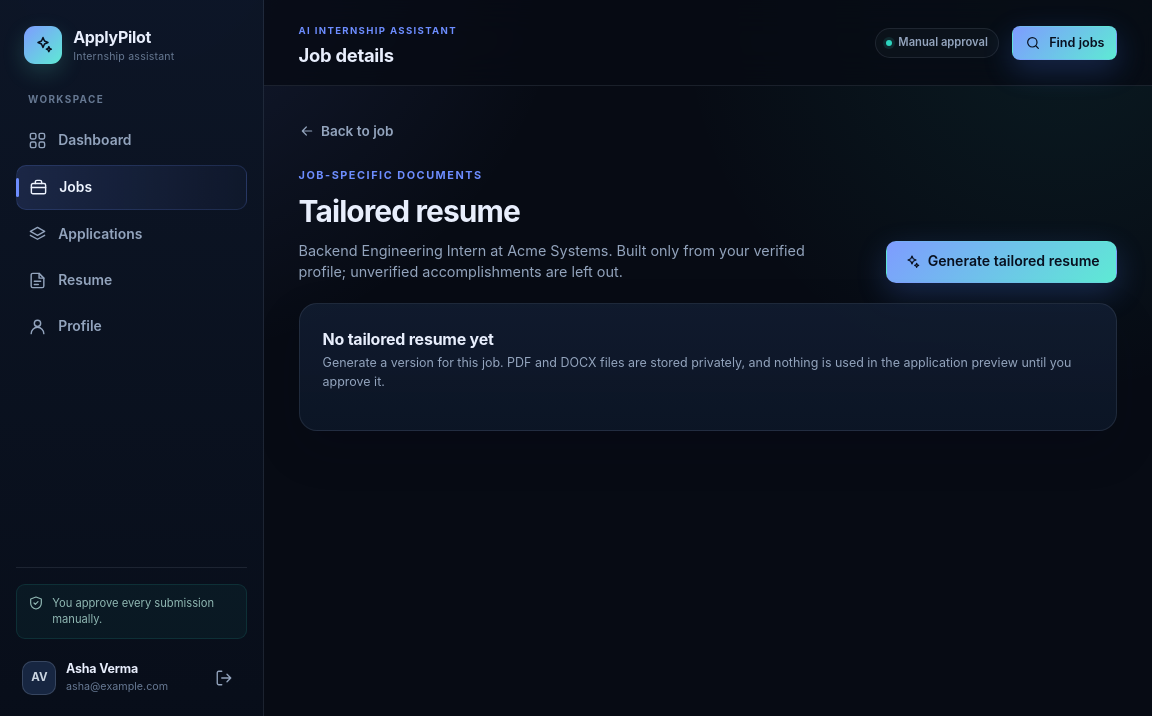
Scenario: tailored resumes › generates, shows differences, edits, and approves a job-specific resume
Expected: the heading "Tailored resume" is shown, [298, 193, 520, 229]
Expected: the heading "No tailored resume yet" is shown, [323, 329, 494, 349]
Click the button "Generate tailored resume".
click(1002, 262)  # box [886, 241, 1117, 283]
(page scrolled)
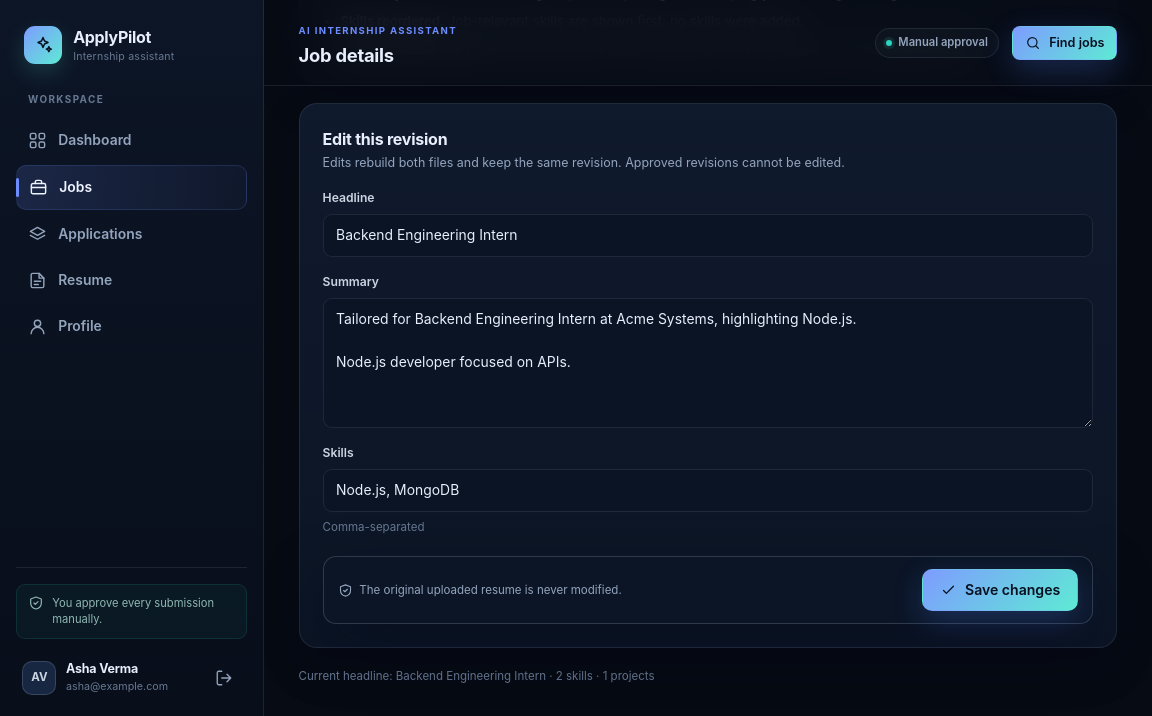
Expected: the list item "not marked verified" is shown, [752, 41, 967, 57]
Replace the text in the text box labelled "Summary" with "Edited tailored summary." at [708, 363], box [323, 298, 1093, 428]
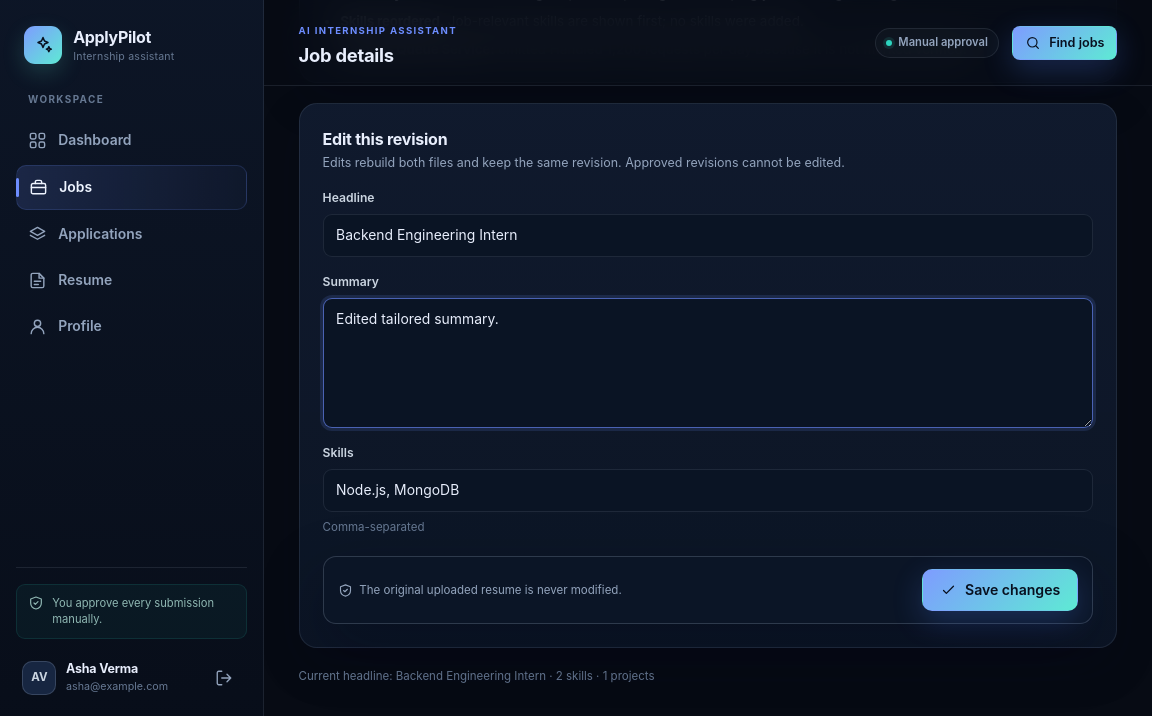
Click the button "Save changes".
click(1000, 590)  # box [922, 569, 1078, 611]
(page scrolled)
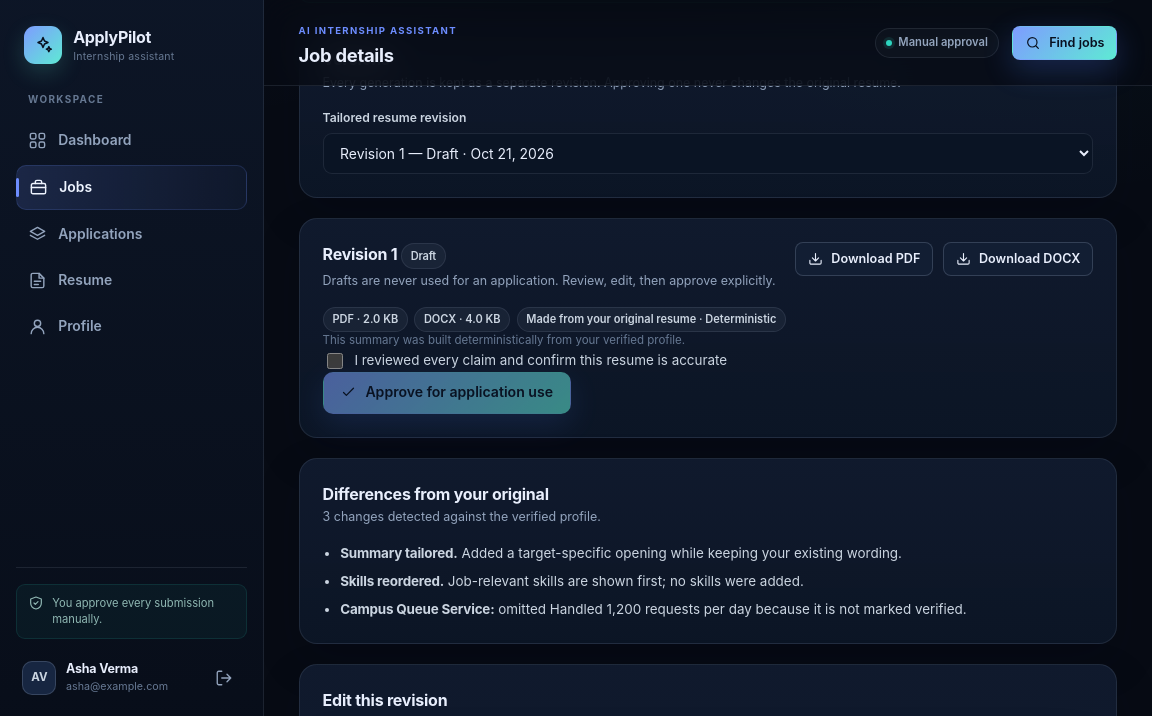
Expected: the button "Approve for application use" is disabled, [323, 372, 571, 414]
Click the checkbox labelled "I reviewed every claim and confirm this resume is accurate".
click(335, 360)  # box [327, 352, 343, 368]
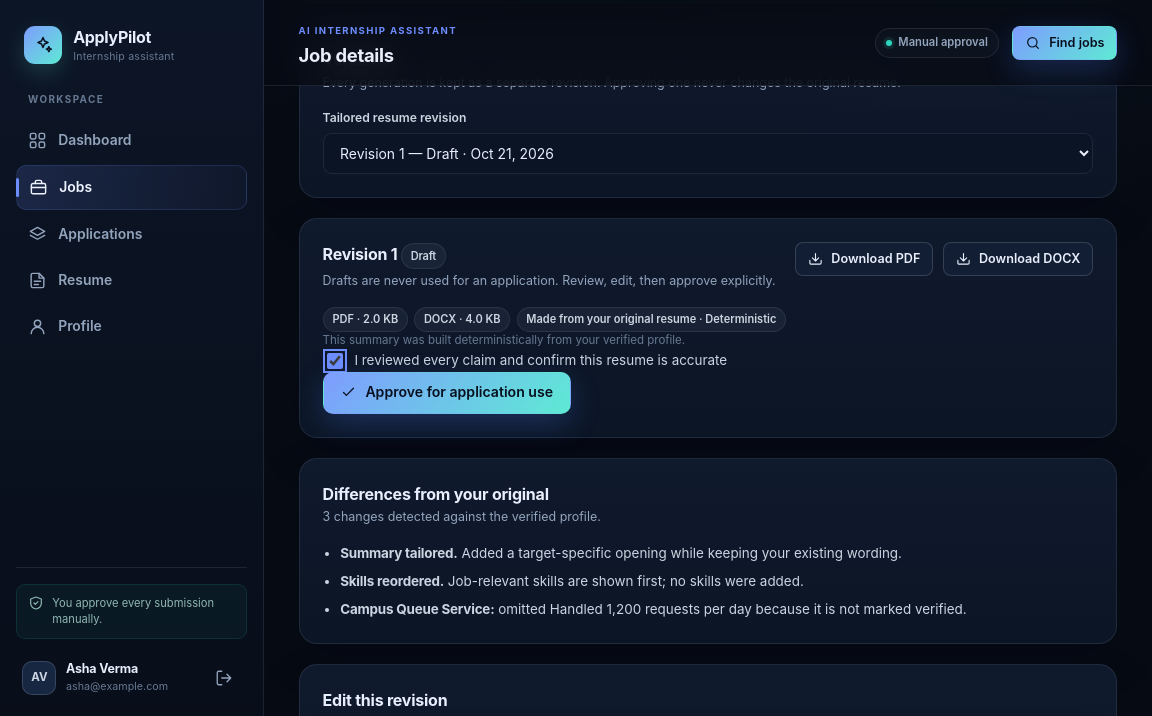
Click the button "Approve for application use".
click(447, 392)  # box [323, 372, 571, 414]
(page scrolled)
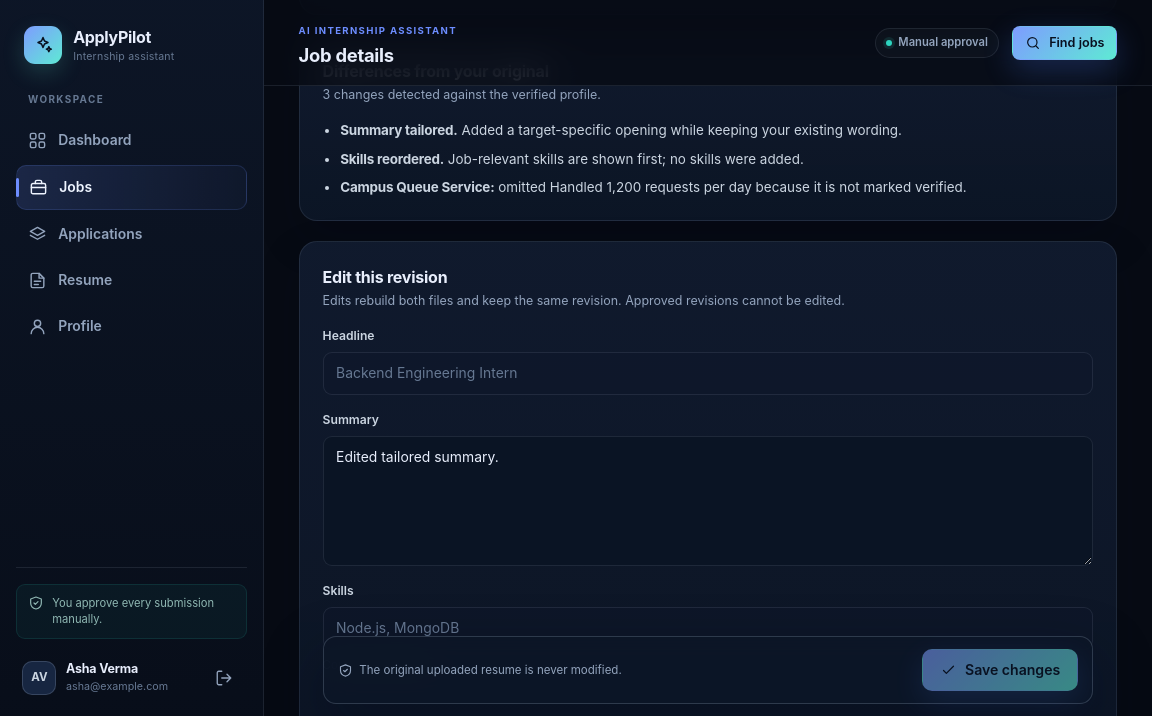
Expected: the button "Save changes" is disabled, [922, 649, 1078, 691]
